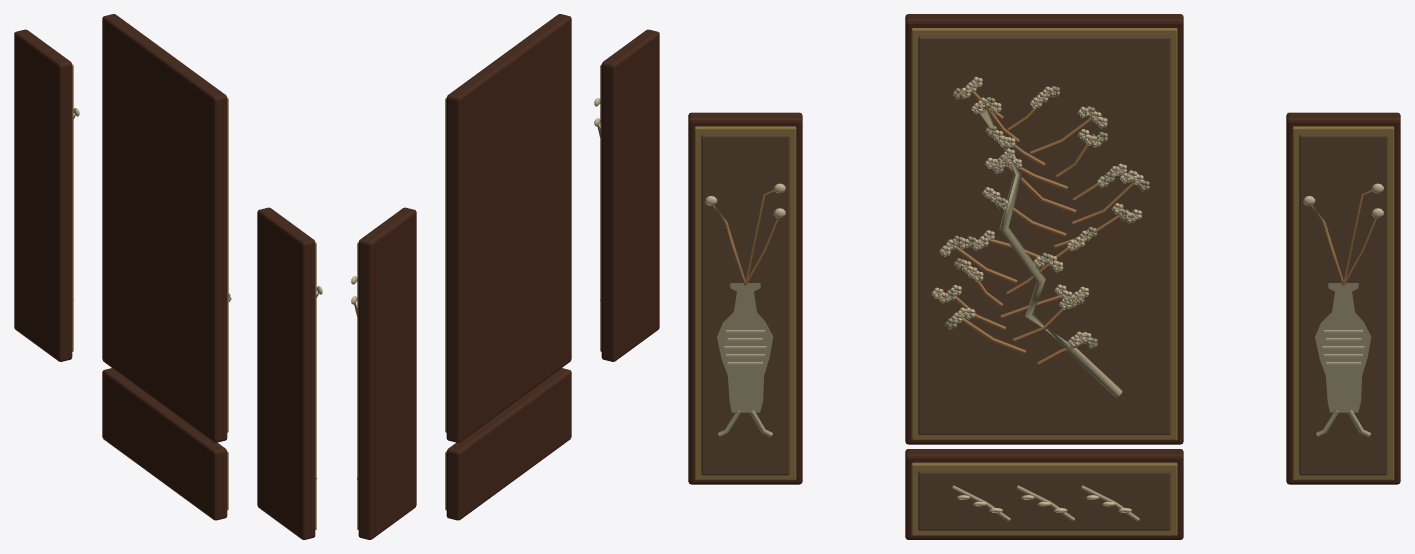
Rendered from art.glb.
The picture shows the model from 3 angles, left to right: view 1: azimuth 30°, elevation 25°; view 2: azimuth 150°, elevation 25°; view 3: azimuth 270°, elevation 25°; orthographic projection. The views are drawn at different scales.
Parts seen in each view (by area): view 1: FP218_art; view 2: FP218_art; view 3: FP218_art.
Boxes of the visible parts, x1,y1,x2,y2 form: FP218_art: [14, 14, 322, 539]; FP218_art: [351, 14, 659, 539]; FP218_art: [688, 14, 1400, 539].
Size of the model in its own units: 0.1234 by 1.69 by 2.1.
